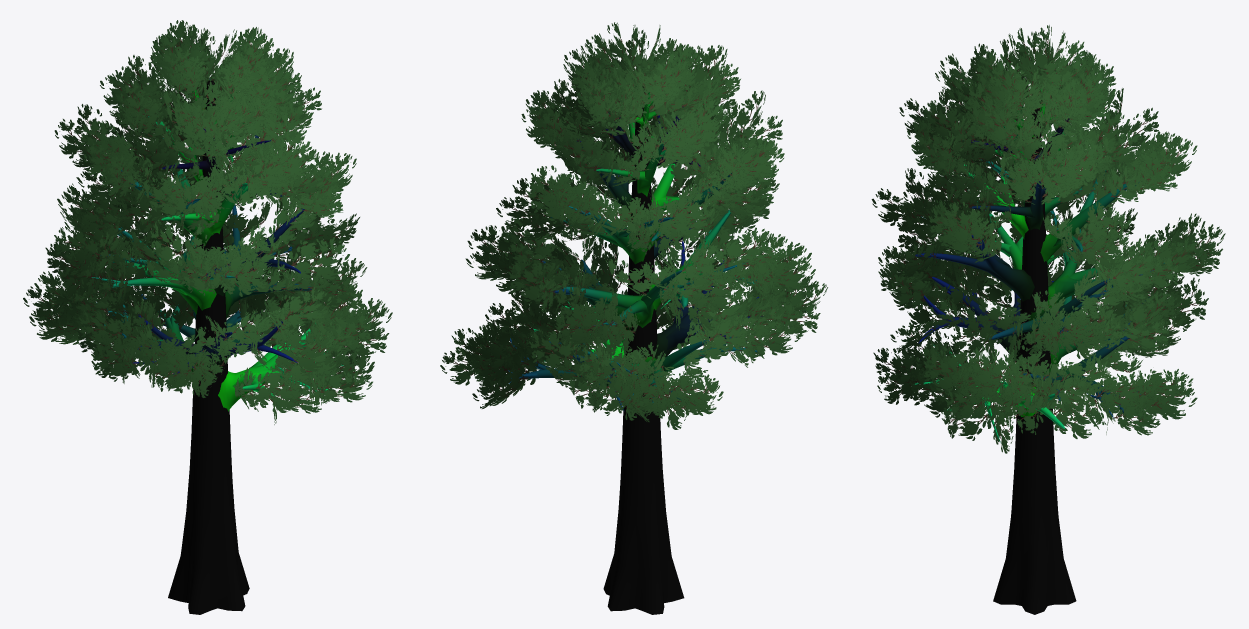
The model's file is Tree_Thick_1.fbx.
The picture shows the model from 3 angles, left to right: view 1: azimuth 30°, elevation 25°; view 2: azimuth 150°, elevation 25°; view 3: azimuth 270°, elevation 25°; orthographic projection. The views are drawn at different scales.
Parts seen in each view (by area): view 1: artistic branch_1, _0; view 2: artistic branch_1, _0; view 3: artistic branch_1, _0.
Part boxes in pixels (x1=…): artistic branch_1: x1=23, y1=20, x2=392, y2=424; _0: x1=91, y1=78, x2=343, y2=614; artistic branch_1: x1=440, y1=22, x2=827, y2=429; _0: x1=508, y1=86, x2=762, y2=614; artistic branch_1: x1=871, y1=25, x2=1225, y2=453; _0: x1=915, y1=89, x2=1164, y2=614.
Bounding box in the file's own units: 779 × 1263 × 760.
